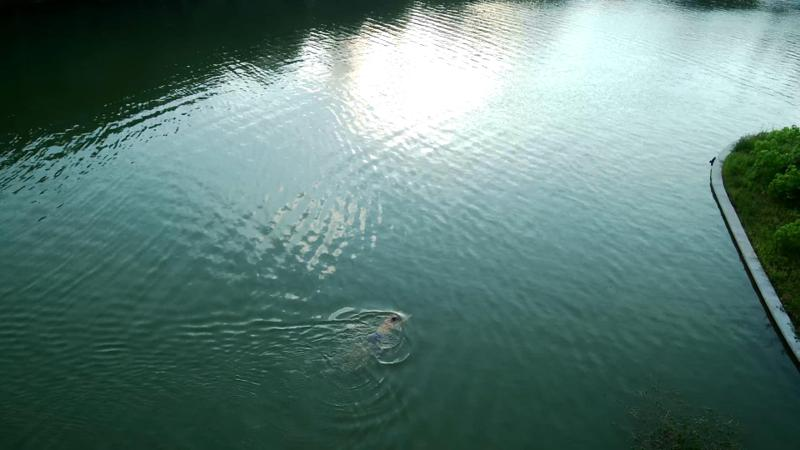passerby: (368, 310, 412, 346)
